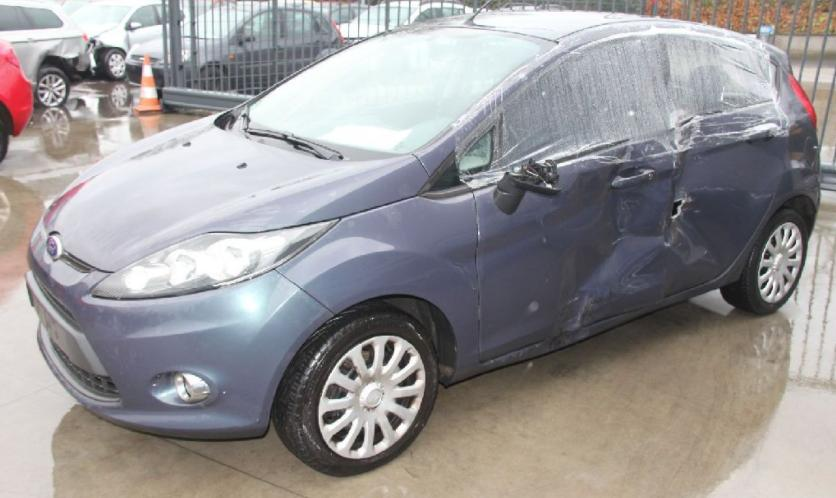Back-door: (655, 29, 792, 297)
Back-wheel: (723, 212, 808, 315)
Back-window: (755, 53, 771, 84)
Fender: (274, 190, 480, 363)
Front-bumper: (27, 217, 331, 442)
Front-door: (472, 30, 676, 362)
Front-wheel: (275, 302, 438, 477)
Front-window: (439, 129, 493, 189)
Grille: (24, 263, 120, 397)
Headlight: (90, 222, 334, 299)
Hood: (45, 111, 436, 275)
License-plate: (26, 273, 109, 374)
Mirror: (493, 160, 558, 211)
Quarter-panel: (721, 124, 822, 276)
Rocker-panel: (447, 273, 740, 385)
Roof: (405, 9, 774, 49)
Tail-light: (787, 74, 817, 127)
Trunk: (752, 40, 793, 74)
Windshield: (218, 26, 559, 160)
